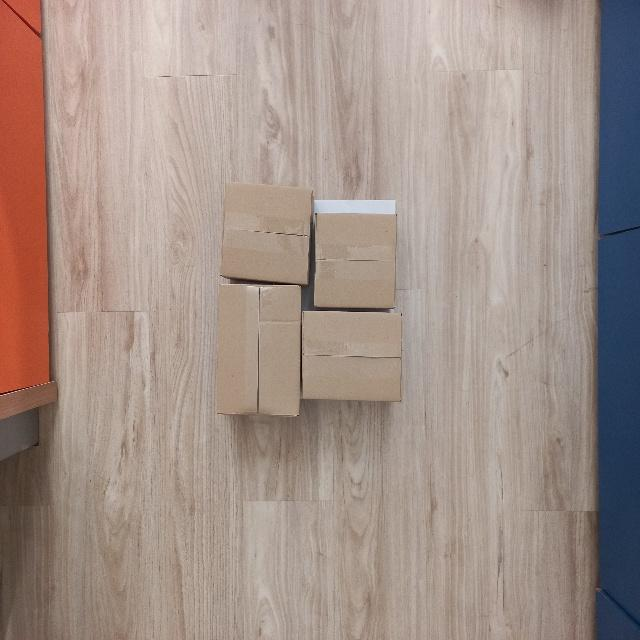box: (211, 281, 305, 422), (299, 309, 406, 406), (221, 182, 314, 286), (309, 210, 401, 311)
